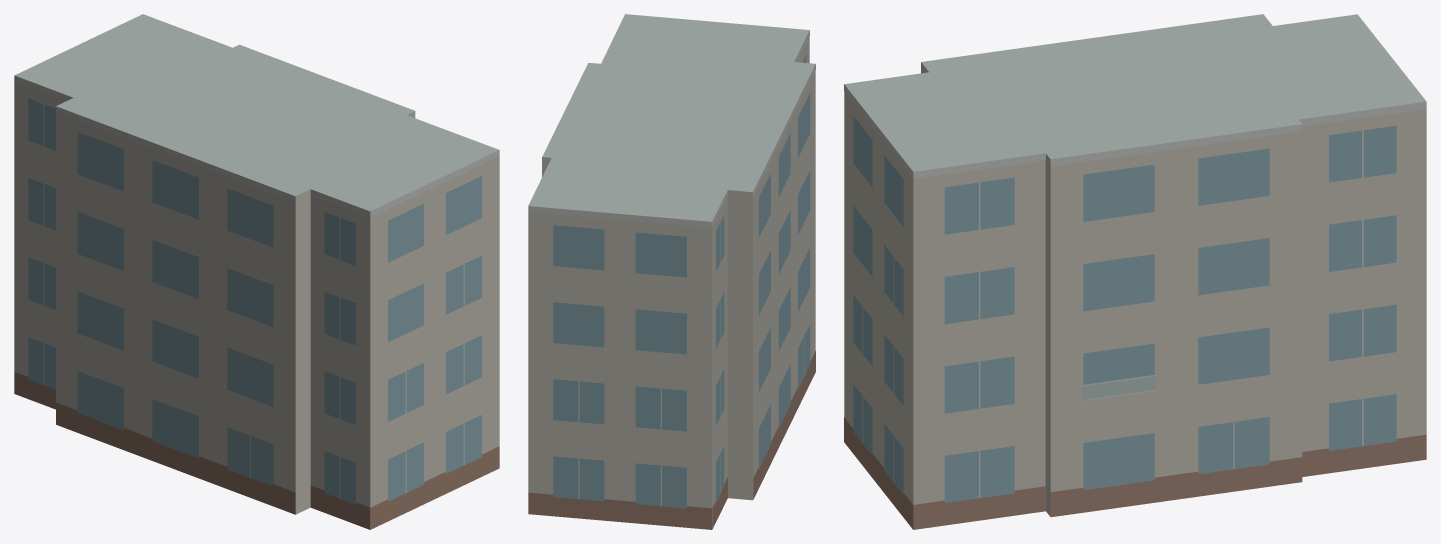
File: survey-upis-32701869.glb
3 renders of one model, left to right at view 1: azimuth 30°, elevation 25°; view 2: azimuth 150°, elevation 25°; view 3: azimuth 270°, elevation 25°, orthographic. The views are drawn at different scales.
Parts seen in each view (by area): view 1: survey-upis-32701869.tmp; view 2: survey-upis-32701869.tmp; view 3: survey-upis-32701869.tmp.
Boxes of the visible parts, bbox=[...] form: survey-upis-32701869.tmp: bbox=[14, 14, 499, 529]; survey-upis-32701869.tmp: bbox=[528, 14, 815, 529]; survey-upis-32701869.tmp: bbox=[844, 14, 1426, 529].
Size of the model in its own units: 11.56 by 12.2 by 18.01.
